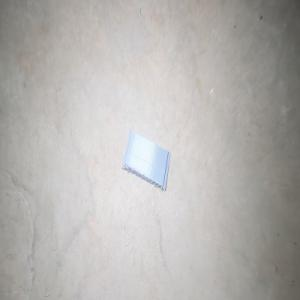PlasticPart: (121, 129, 170, 192)
